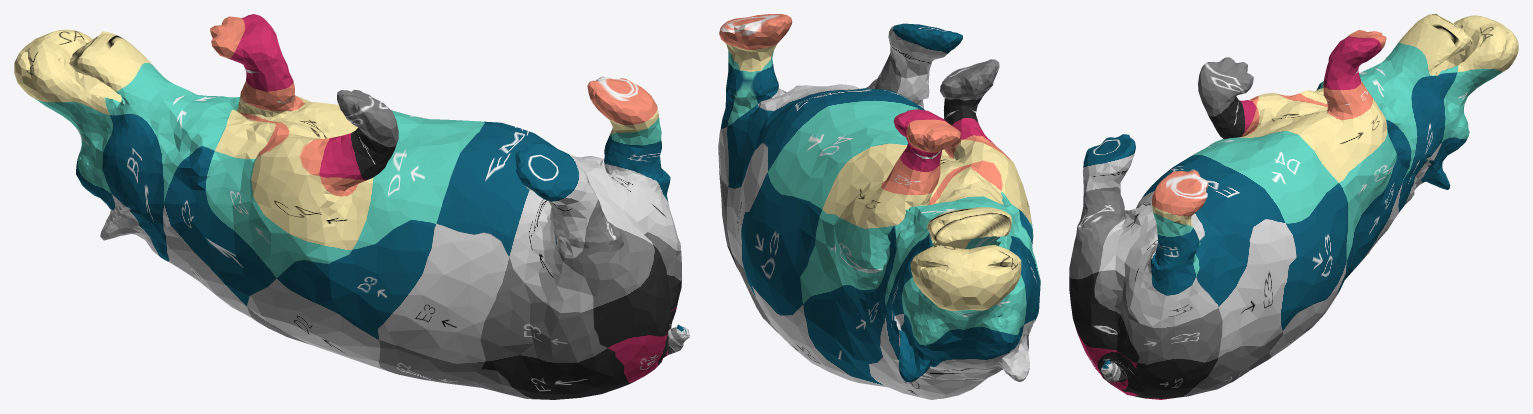
Rendered from horse_07-hippo_03.obj.
3 renders of one model, left to right at view 1: azimuth 30°, elevation 25°; view 2: azimuth 150°, elevation 25°; view 3: azimuth 270°, elevation 25°, orthographic. The views are drawn at different scales.
Visible parts, largest first — view 1: horse_07-hippo_03_export; view 2: horse_07-hippo_03_export; view 3: horse_07-hippo_03_export.
Part boxes in pixels (x1,y1,x2,y2): horse_07-hippo_03_export: (14,14,689,399); horse_07-hippo_03_export: (718,14,1040,399); horse_07-hippo_03_export: (1069,14,1518,399).
Bounding box in the file's own units: 0.7165 × 0.4961 × 0.7299.
